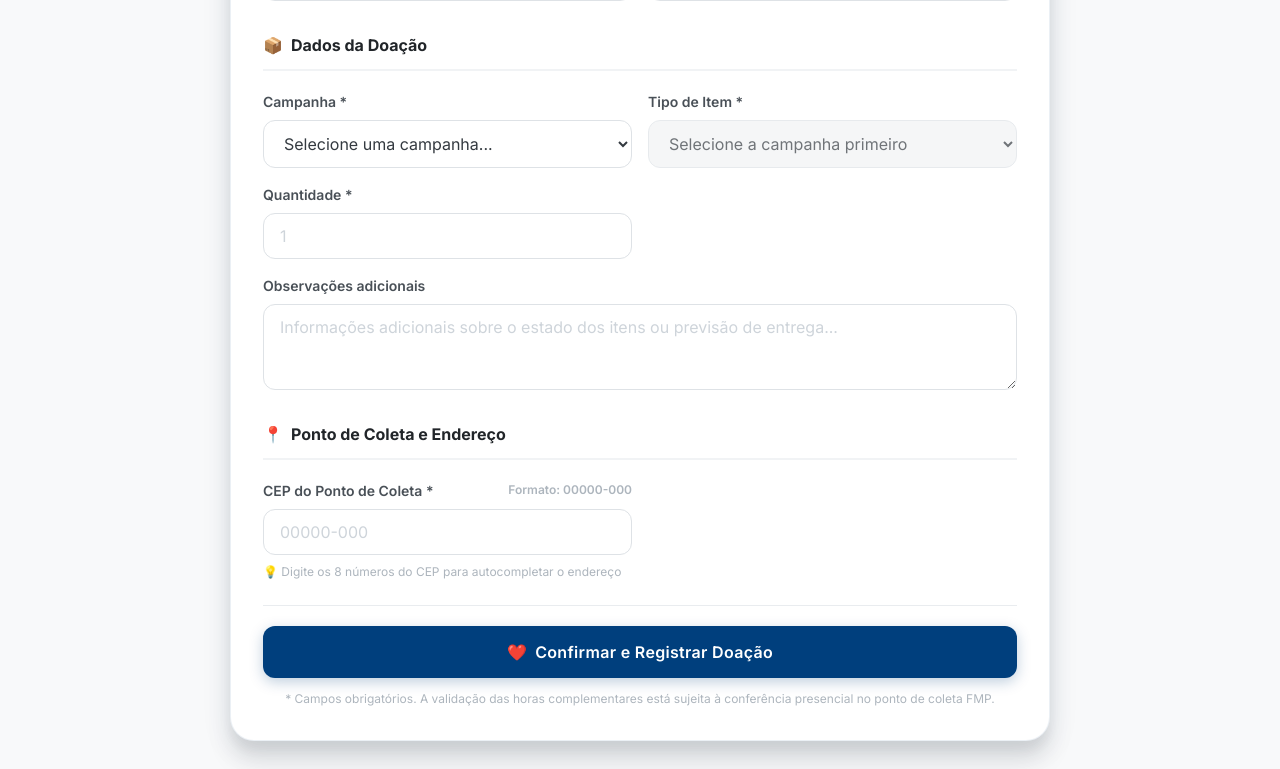
DonationForm — Preenchimento Automático via CEP (ViaCEP) › deve formatar o CEP com máscara 00000-000 em tempo real ao digitar
(page scrolled)
Type "88130000" into the field labelled "CEP do Ponto de Coleta * Formato: 00000-000" at (448, 532), box [263,508,632,554]
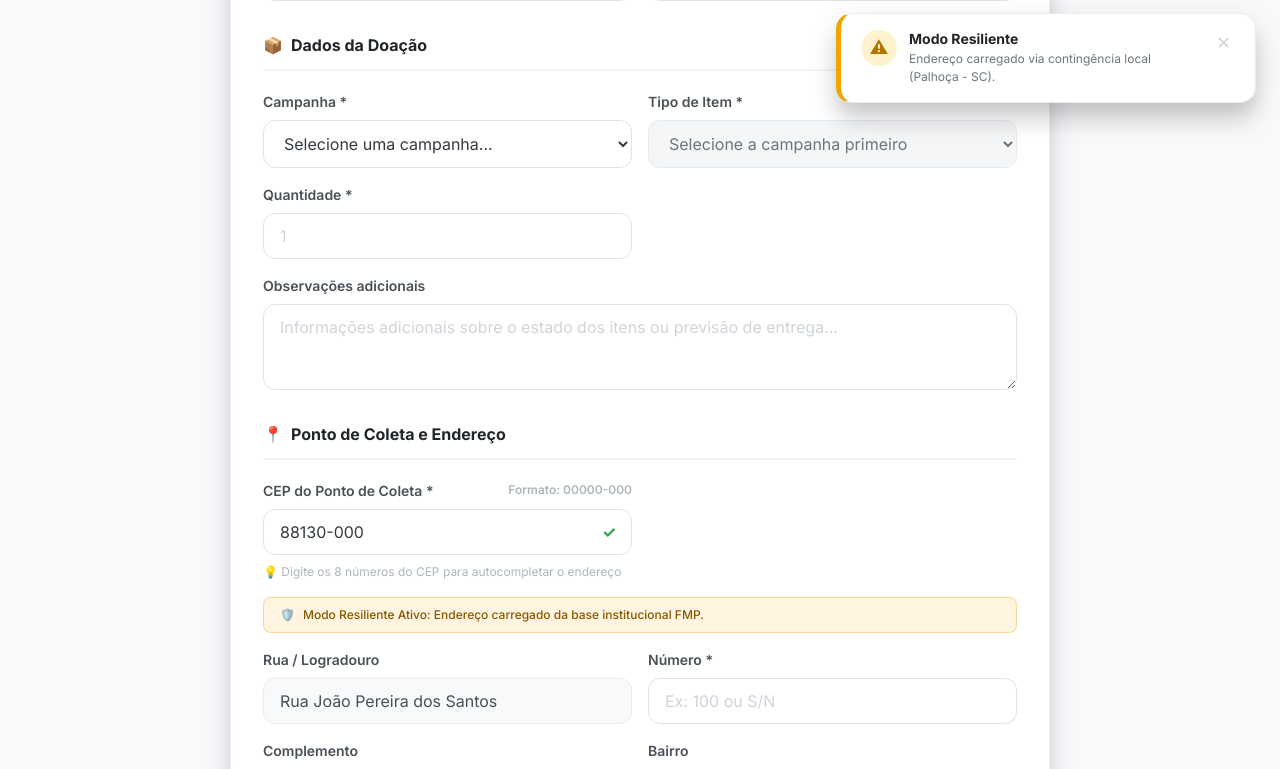
Check: the field labelled "CEP do Ponto de Coleta * Formato: 00000-000" holds "88130-000", box [263,508,632,554]
